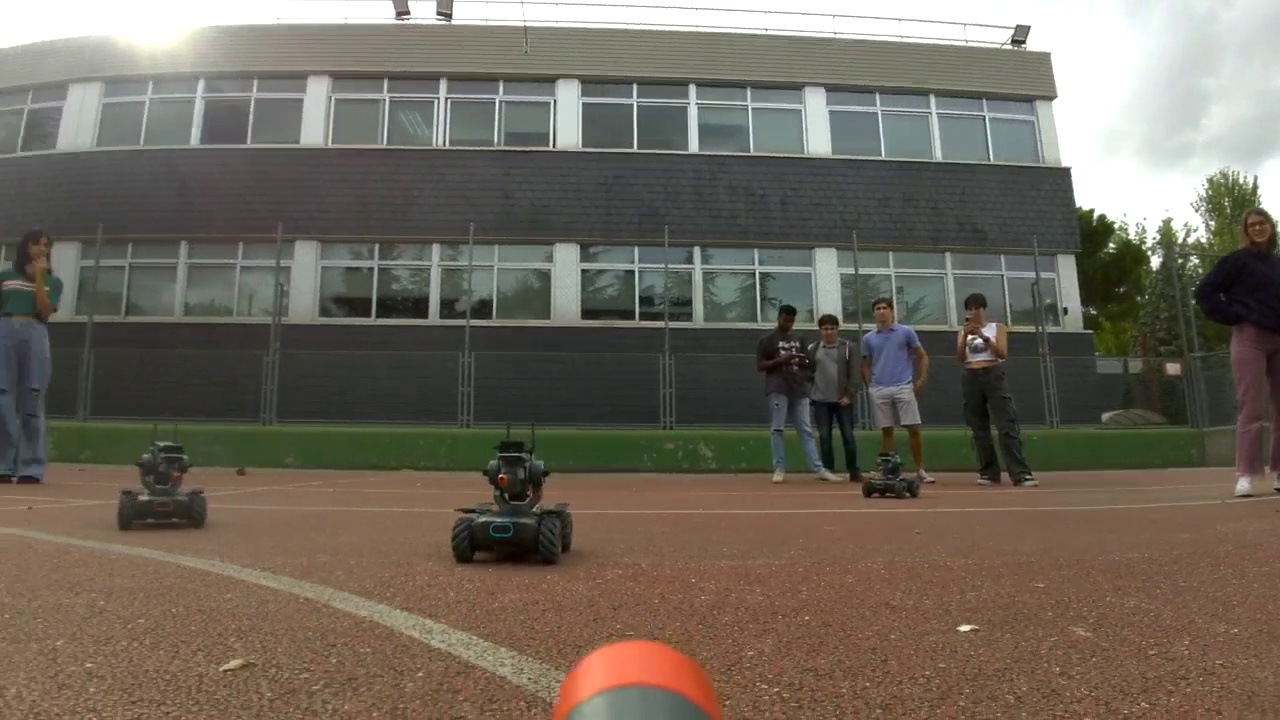robot: (451, 442, 572, 566), (116, 441, 206, 531), (862, 452, 920, 500)
